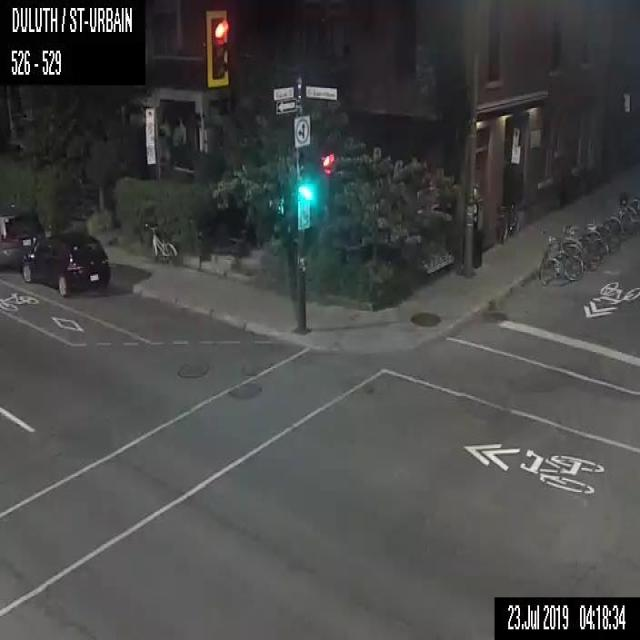vehicle: (21, 232, 109, 296), (0, 205, 45, 271)
